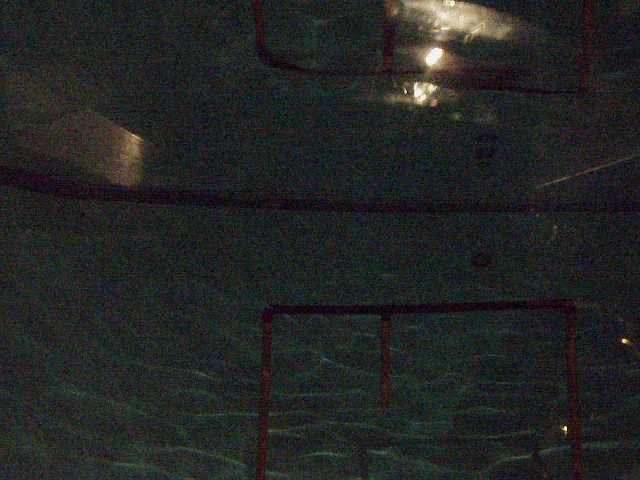Gate: (558, 302, 588, 471), (256, 312, 274, 478), (376, 313, 395, 404)
